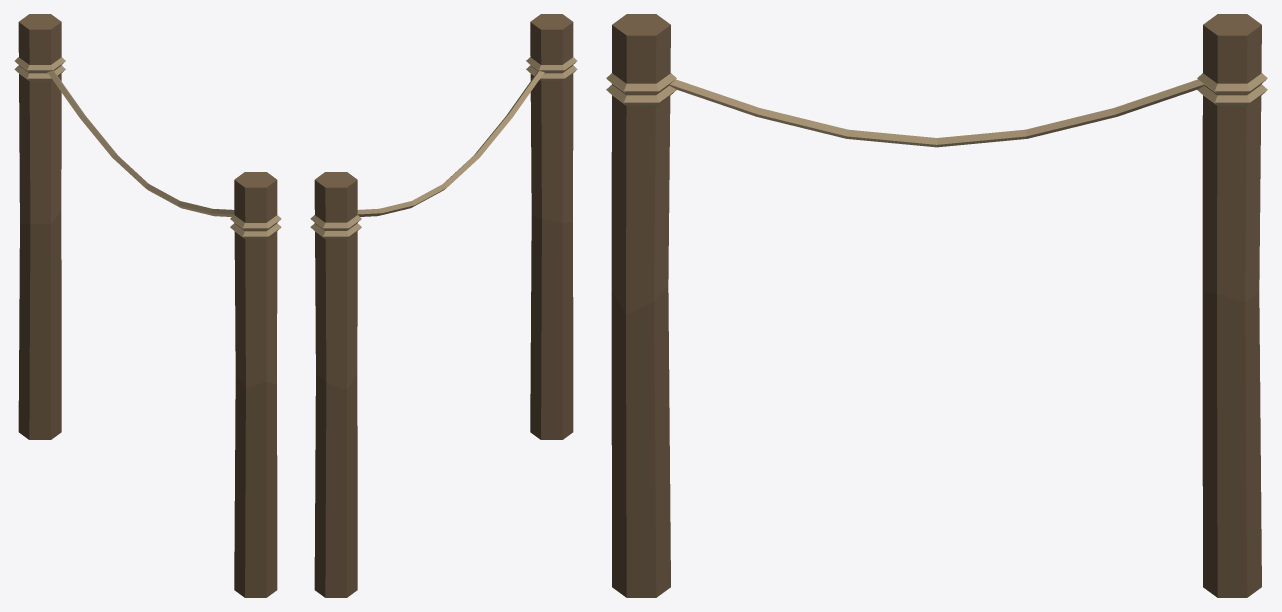
Rendered from SM_Props_City_Beach_Pier_Post_03.fbx.
3 renders of one model, left to right at view 1: azimuth 30°, elevation 25°; view 2: azimuth 150°, elevation 25°; view 3: azimuth 270°, elevation 25°, orthographic. The views are drawn at different scales.
Visible parts, largest first — view 1: SM_Props_City_Beach_Pier_Post_03; view 2: SM_Props_City_Beach_Pier_Post_03; view 3: SM_Props_City_Beach_Pier_Post_03.
Part boxes in pixels (left/top/right/bottom): SM_Props_City_Beach_Pier_Post_03: left=14, top=14, right=281, bottom=597; SM_Props_City_Beach_Pier_Post_03: left=310, top=14, right=577, bottom=597; SM_Props_City_Beach_Pier_Post_03: left=606, top=14, right=1267, bottom=597.
Bounding box in the file's own units: 20.78 × 210 × 224.
